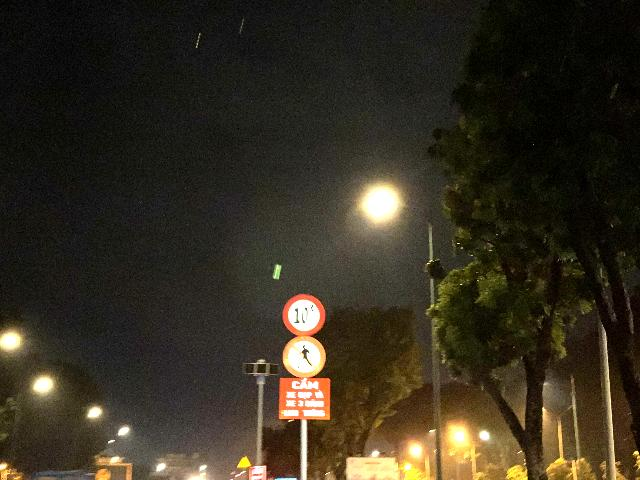cam-nguoi-di-bo: (283, 336, 326, 378)
han-che-trong-luong-xe: (283, 294, 325, 335)
